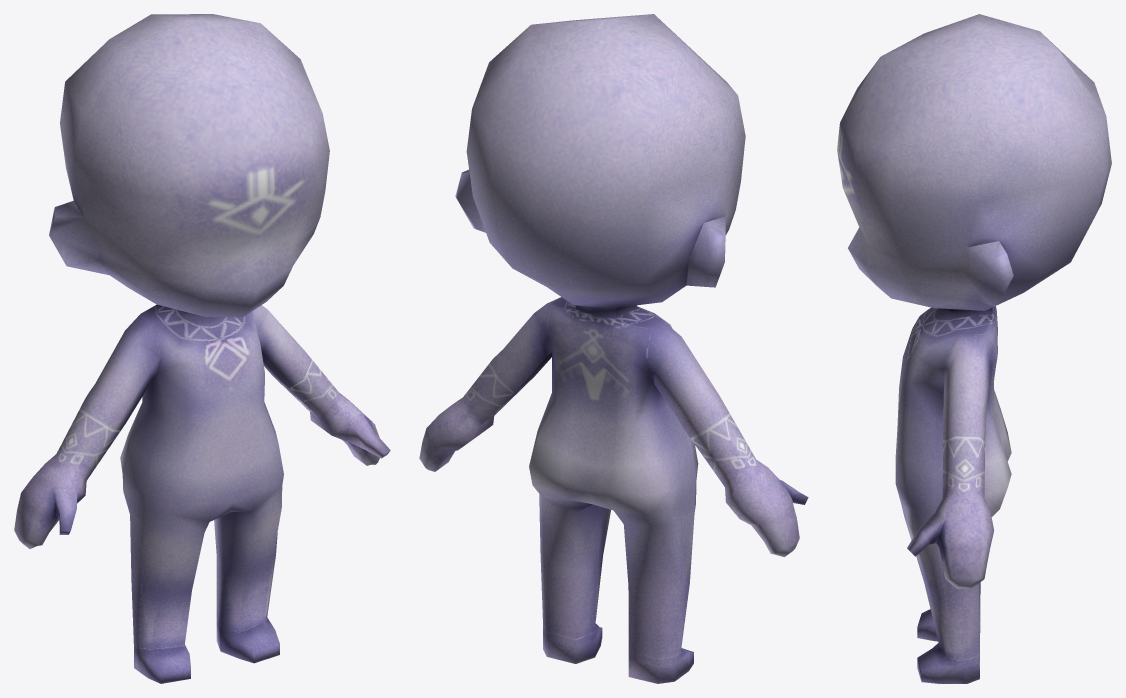
Rendered from body.FBX.
3 renders of one model, left to right at view 1: azimuth 30°, elevation 25°; view 2: azimuth 150°, elevation 25°; view 3: azimuth 270°, elevation 25°, orthographic. The views are drawn at different scales.
Parts seen in each view (by area): view 1: Box003; view 2: Box003; view 3: Box003.
Part boxes in pixels (x1,y1,x2,y2): Box003: (14,14,390,683); Box003: (419,14,808,683); Box003: (837,14,1111,683).
Bounding box in the file's own units: 46.27 × 78.2 × 31.12.
